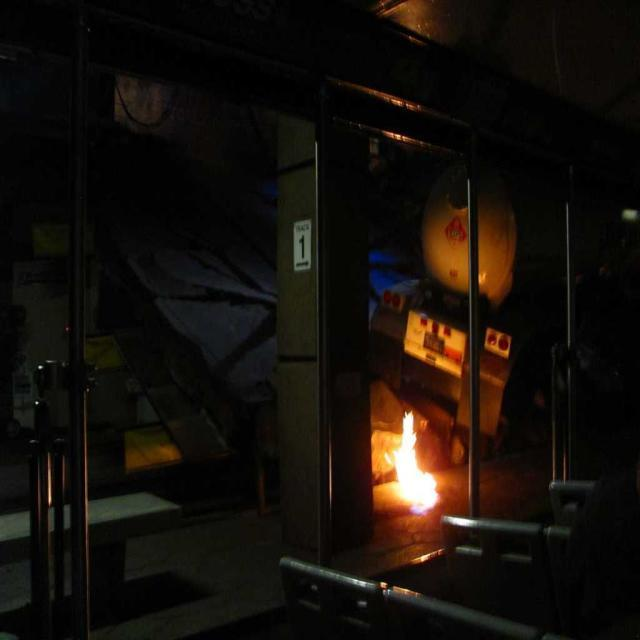Fire: (402, 438, 428, 507)
